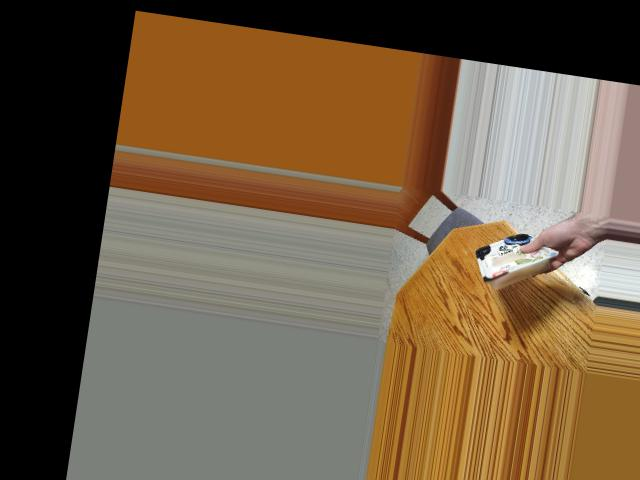cheese: (473, 217, 549, 303)
